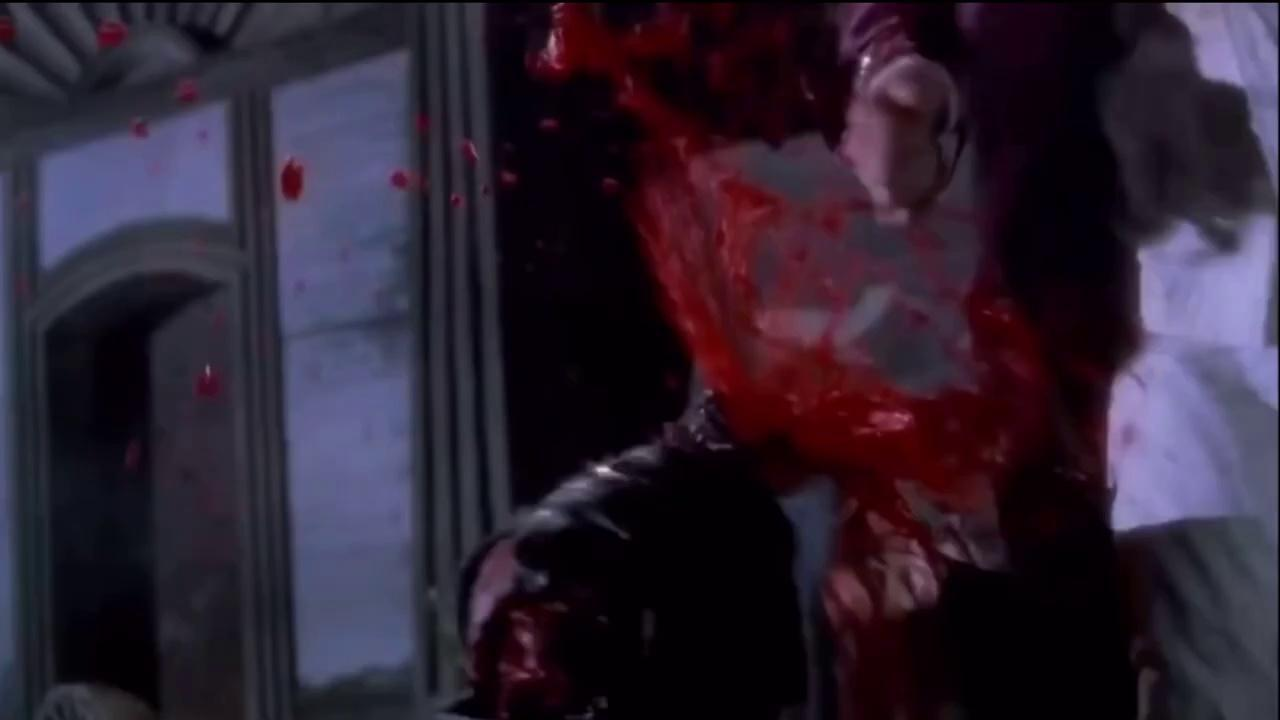Fire: (518, 2, 1145, 720), (422, 495, 621, 720), (194, 341, 234, 404), (279, 155, 304, 200), (95, 17, 127, 48), (387, 167, 426, 188), (173, 77, 198, 102), (0, 10, 15, 44), (461, 138, 479, 165), (498, 168, 518, 187), (538, 116, 561, 132), (130, 119, 148, 137), (415, 112, 429, 130), (450, 191, 463, 206)
